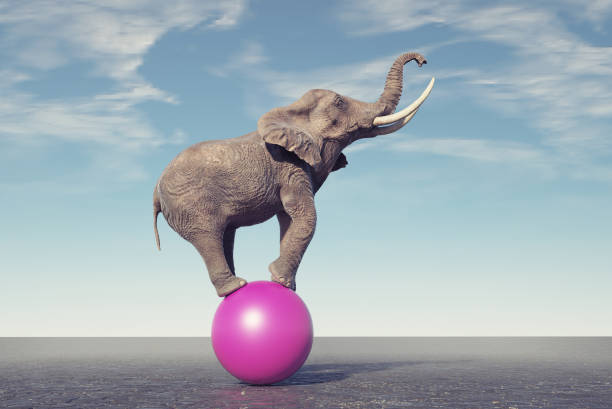elephant: (120, 31, 443, 403)
